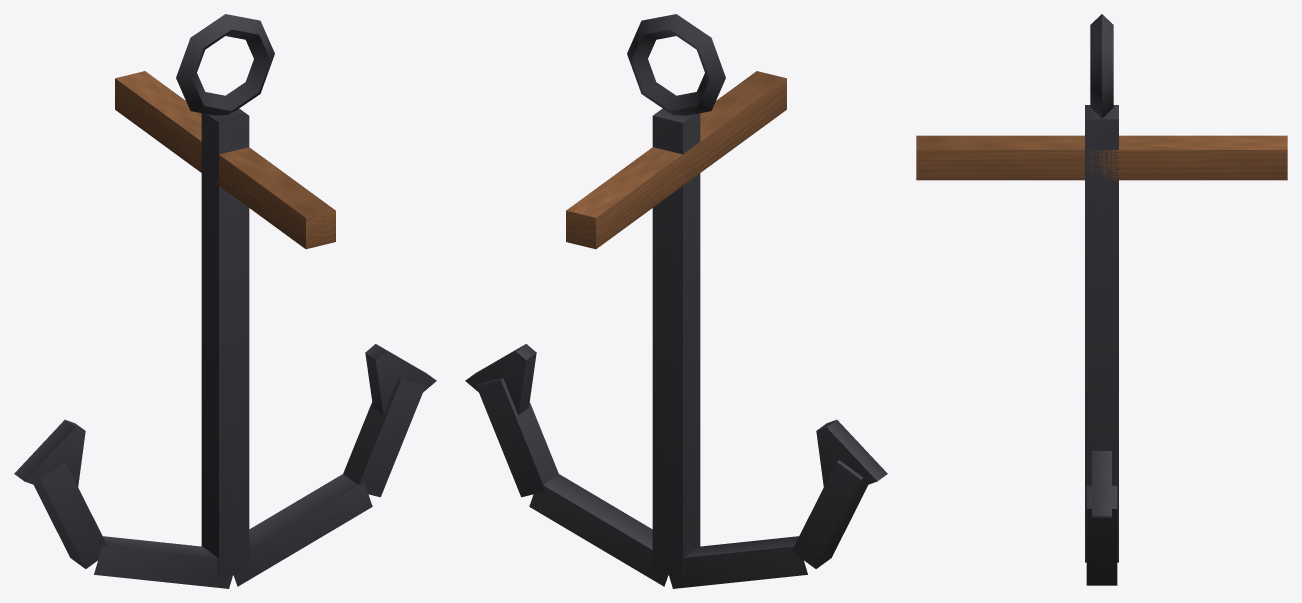
File: prop_anchor_01.glb
3 renders of one model, left to right at view 1: azimuth 30°, elevation 25°; view 2: azimuth 150°, elevation 25°; view 3: azimuth 270°, elevation 25°, orthographic. The views are drawn at different scales.
Parts seen in each view (by area): view 1: prop_anchor_01; view 2: prop_anchor_01; view 3: prop_anchor_01.
Boxes of the visible parts, x1,y1,x2,y2 form: prop_anchor_01: (14,14,436,588); prop_anchor_01: (465,14,887,588); prop_anchor_01: (916,14,1287,585).
Bounding box in the file's own units: 1.37 × 1.81 × 1.1.
1 material, 1 textured.
